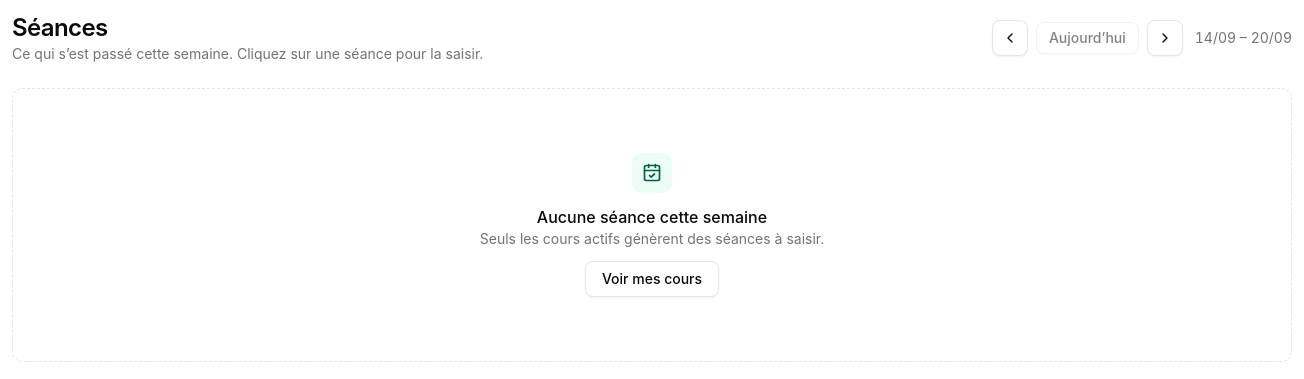
Test case: SeancesSemainePage › propose le retour à aujourd’hui uniquement hors de la semaine courante
The image size is (1304, 379).
Expected: the button "Aujourd’hui" is disabled, [1036,22,1139,54]
Step 1. Click the button named "semaine précédente" → click(1010, 38), box [992,20,1028,56]
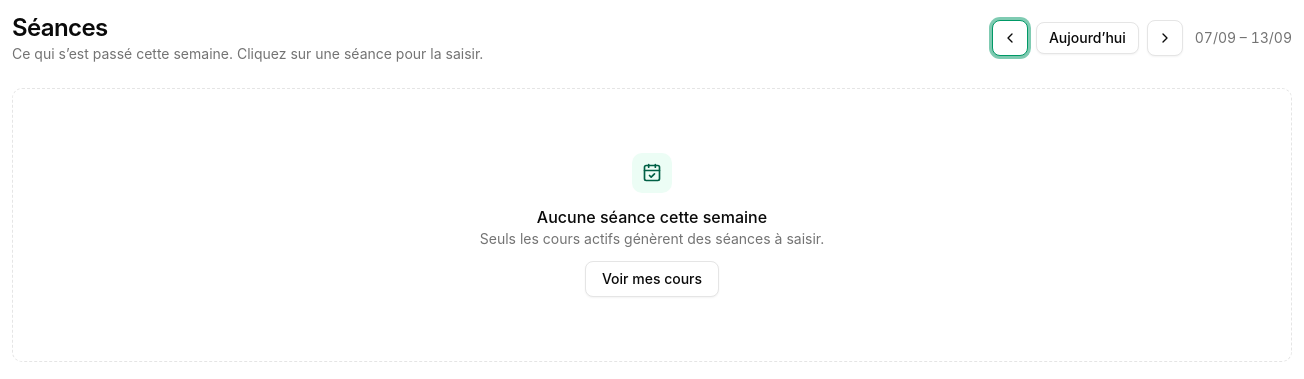
Expected: the button "Aujourd’hui" is enabled, [1036,22,1139,54]
